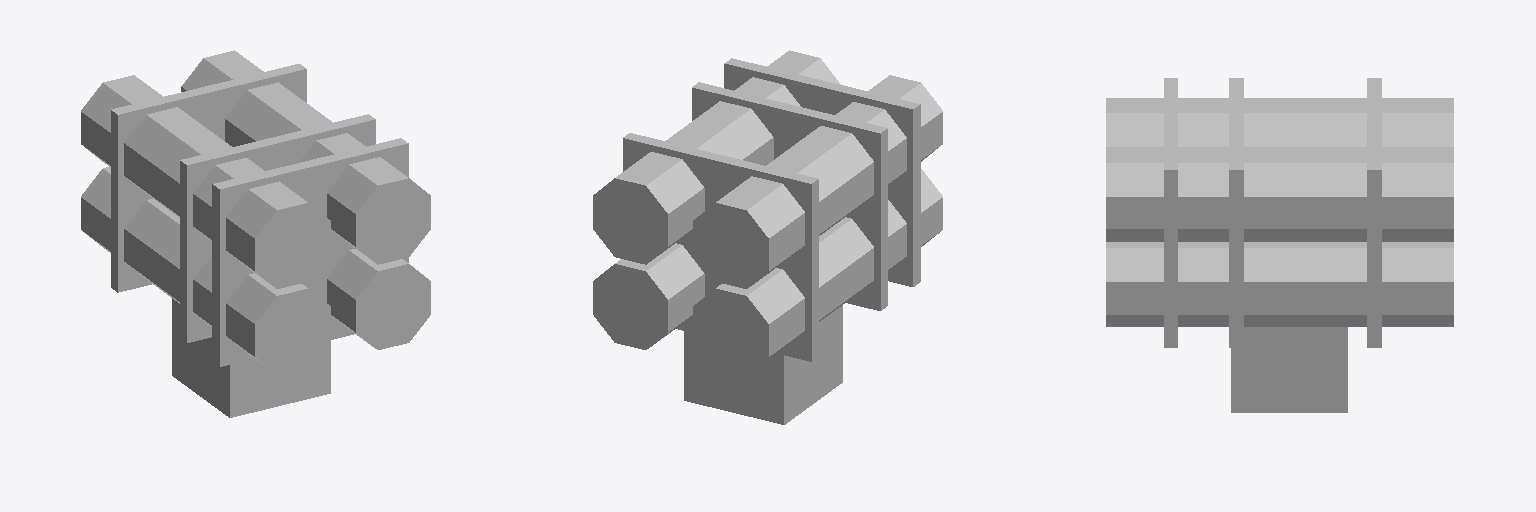
File: mls.obj
3 views of the same model, side by side, from view 1: azimuth 30°, elevation 25°; view 2: azimuth 150°, elevation 25°; view 3: azimuth 270°, elevation 25° (orthographic).
Visible parts, largest first — view 1: cylinder6, cylinder4, cylinder5, cube2, cube1, cylinder, cube3, cube; view 2: cylinder6, cylinder4, cylinder5, cube, cube1, cylinder, cube3, cube2; view 3: cylinder4, cylinder, cylinder6, cube, cube1, cube3, cube2.
Part boxes in pixels (x1,y1,x2,y2): cylinder6: (81,75,330,288); cylinder4: (181,50,430,264); cylinder5: (81,167,330,374); cube2: (212,138,408,366); cube1: (111,64,306,292); cylinder: (327,249,430,349); cube3: (180,114,375,342); cube: (172,298,330,417); cylinder6: (693,75,942,288); cylinder4: (593,50,840,264); cylinder5: (693,169,942,374); cube: (684,305,842,424); cube1: (623,133,818,361); cylinder: (593,243,704,349); cube3: (692,82,887,310); cube2: (724,58,920,286); cylinder4: (1106,147,1453,241); cylinder: (1106,242,1453,326); cylinder6: (1106,98,1453,146); cube: (1231,327,1347,412); cube1: (1367,78,1381,347); cube3: (1229,78,1243,347); cube2: (1164,78,1177,347).
Bounding box in the file's own units: 1.88 × 2.51 × 3.